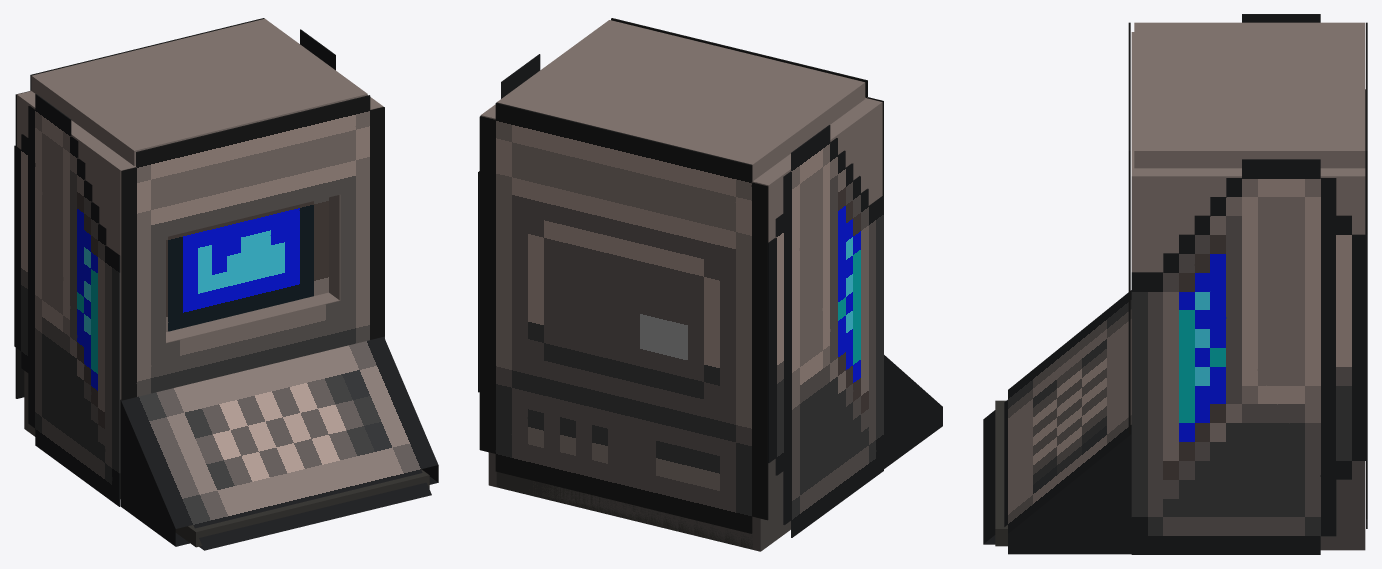
File: CMU3DStationAlertTerminalEast.glb
The picture shows the model from 3 angles, left to right: view 1: azimuth 30°, elevation 25°; view 2: azimuth 150°, elevation 25°; view 3: azimuth 270°, elevation 25°; orthographic projection. The views are drawn at different scales.
Visible parts, largest first — view 1: original front bezel, source keyboard on sloping deck, original left monitor profile, stepped crown, recessed display glass, upper monitor bezel, keyboard lower foot, lower monitor bezel, right monitor bezel, original rear service cover, original right monitor profile; view 2: original rear service cover, original left monitor profile, stepped crown, rear base and hinge, upper monitor bezel, source keyboard on sloping deck, keyboard lower foot, original right monitor profile, original front bezel; view 3: original right monitor profile, stepped crown, source keyboard on sloping deck, upper monitor bezel, rear base and hinge, keyboard lower foot, original front bezel, original left monitor profile, monitor rear casting, original rear service cover.
Boxes of the visible parts, x1,y1,x2,y2 form: original front bezel: (121,95,384,400); source keyboard on sloping deck: (120,337,438,550); original left monitor profile: (14,94,120,506); stepped crown: (31,18,367,165); recessed display glass: (166,197,328,331); upper monitor bezel: (17,93,383,246); keyboard lower foot: (175,469,429,547); lower monitor bezel: (166,292,339,343); right monitor bezel: (329,195,340,300); original rear service cover: (15,18,264,398); original right monitor profile: (300,29,384,338); original rear service cover: (479,102,768,533); original left monitor profile: (768,125,883,537); stepped crown: (497,20,865,181); rear base and hinge: (488,452,790,551); upper monitor bezel: (480,98,882,242); source keyboard on sloping deck: (884,355,942,468); keyboard lower foot: (496,472,752,549); original right monitor profile: (478,54,540,392); original front bezel: (611,18,883,195); original right monitor profile: (1131,159,1367,554); stepped crown: (1134,22,1365,168); source keyboard on sloping deck: (983,290,1131,554); upper monitor bezel: (1131,32,1365,261); rear base and hinge: (1320,461,1365,550); keyboard lower foot: (995,400,1007,546); original front bezel: (1128,22,1130,433); original left monitor profile: (1242,14,1365,234); monitor rear casting: (1174,168,1365,172); original rear service cover: (1366,22,1367,528).
Size of what is drawn, in the model's own units: 0.5685 by 0.7188 by 0.634.
Materials: 8 (5 with a texture image).
